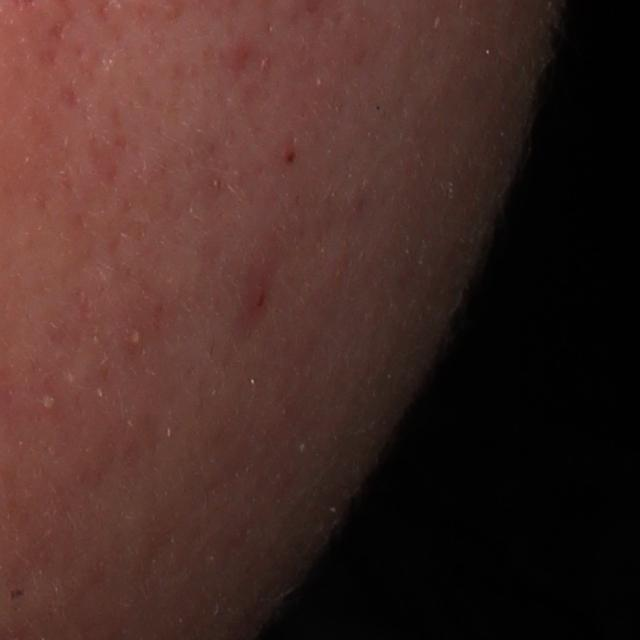pustule: (34, 390, 63, 416)
